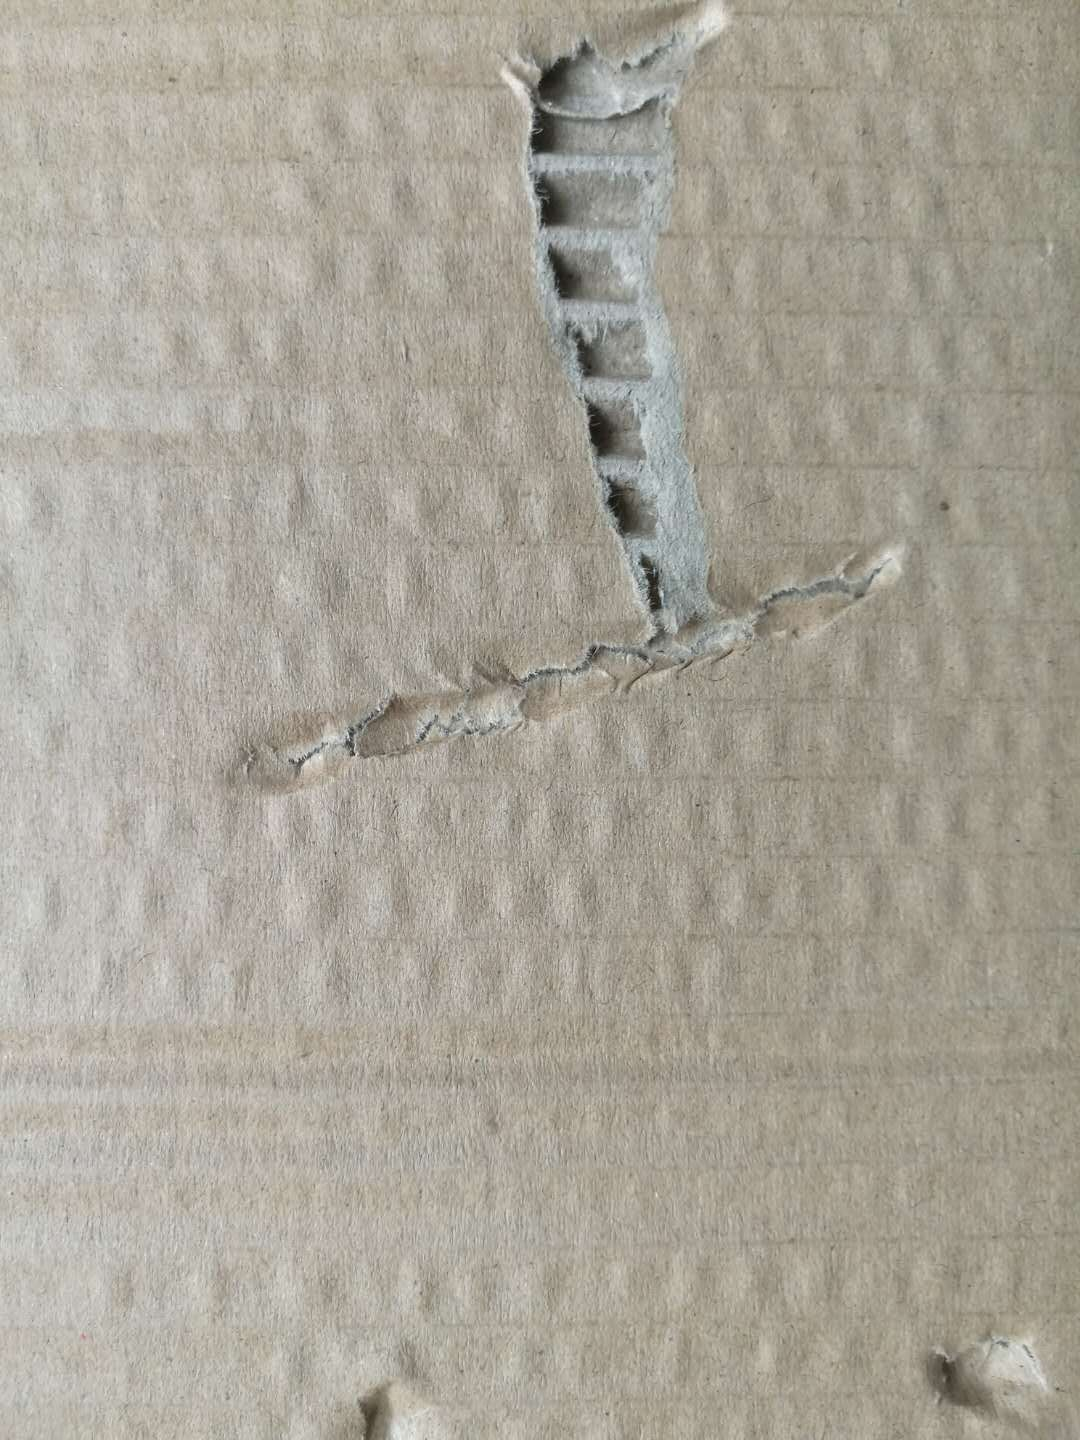defect: (446, 5, 795, 639), (189, 516, 969, 799), (891, 1281, 1080, 1439), (302, 1335, 455, 1440)
